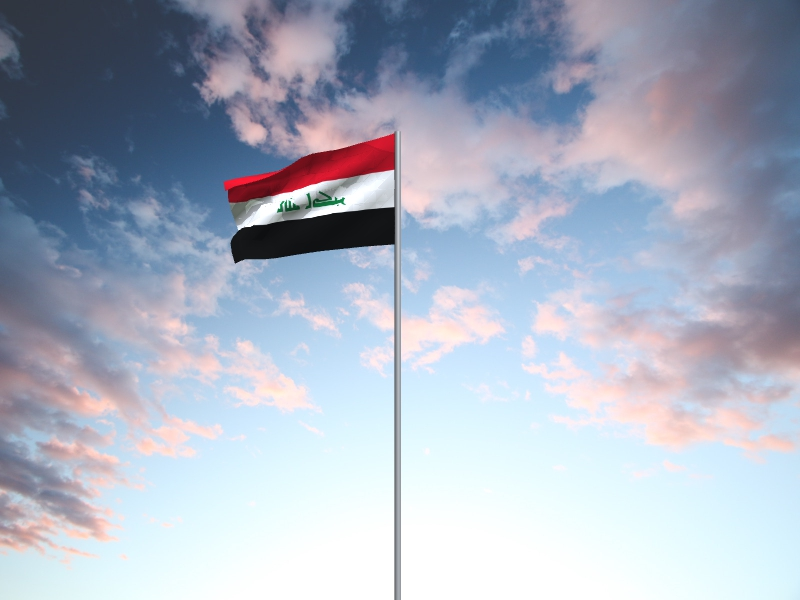iq: (224, 134, 395, 266)
